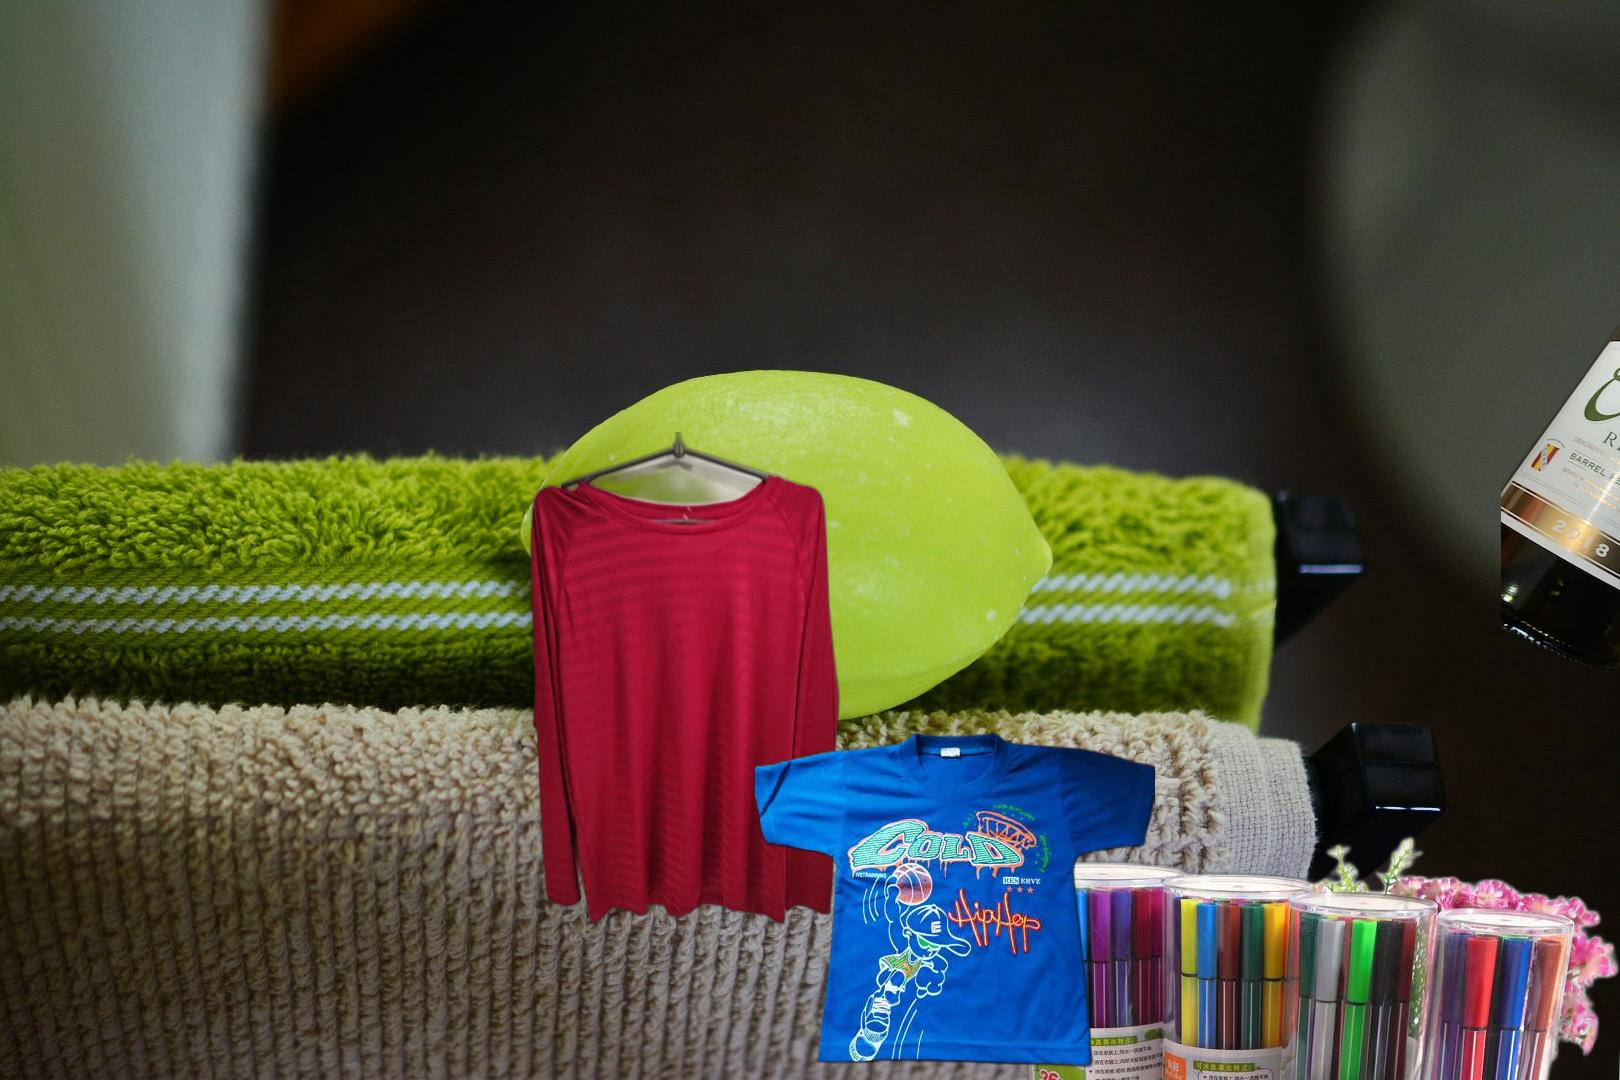clothes: (527, 432, 841, 928), (755, 728, 1155, 1072)
glass: (1501, 122, 1620, 676)
penholder: (871, 830, 1620, 1080)
